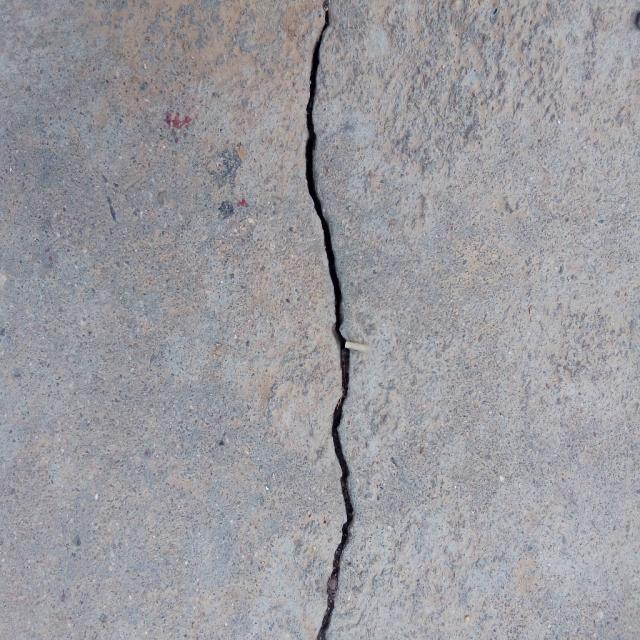cracks: (267, 6, 384, 640)
